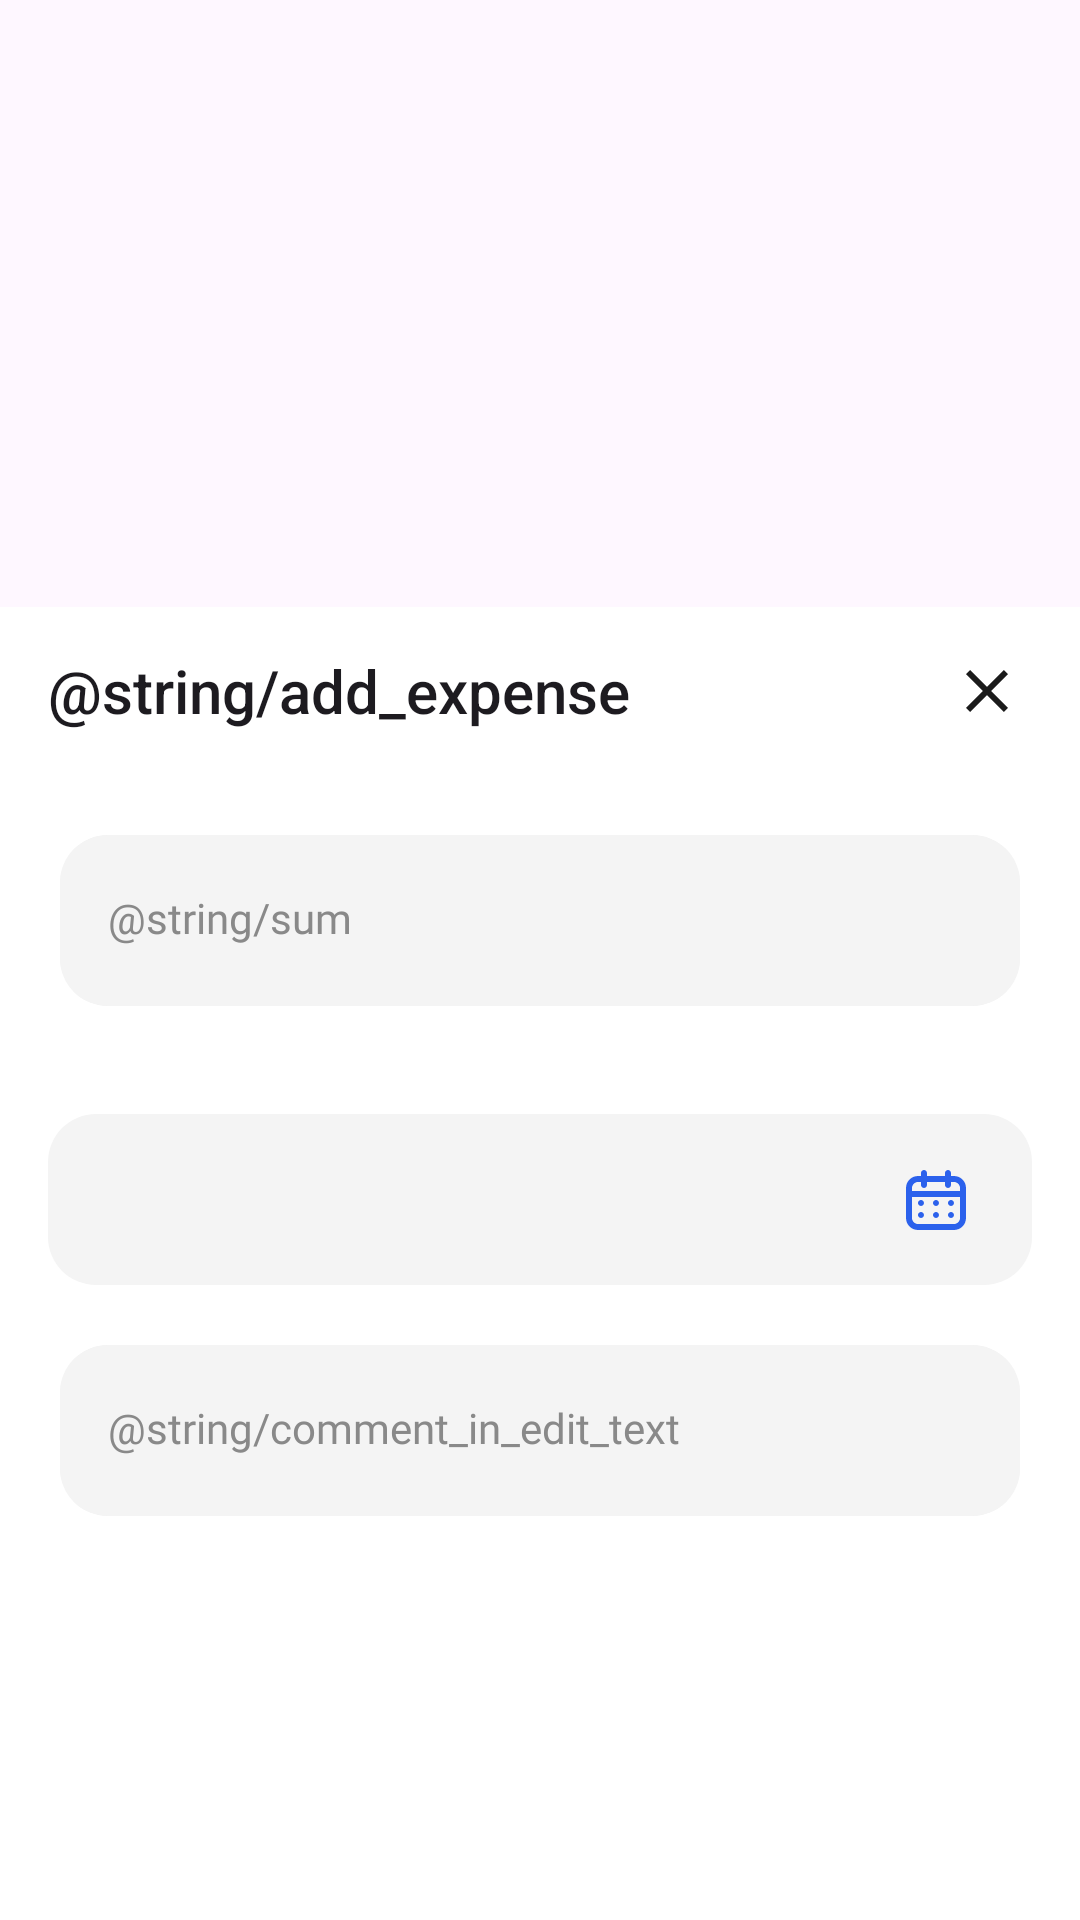

Screen size 1080*1920. Icon name, then its center in pixels as (x,y):
calendar: (936,1200)
close: (987,691)
